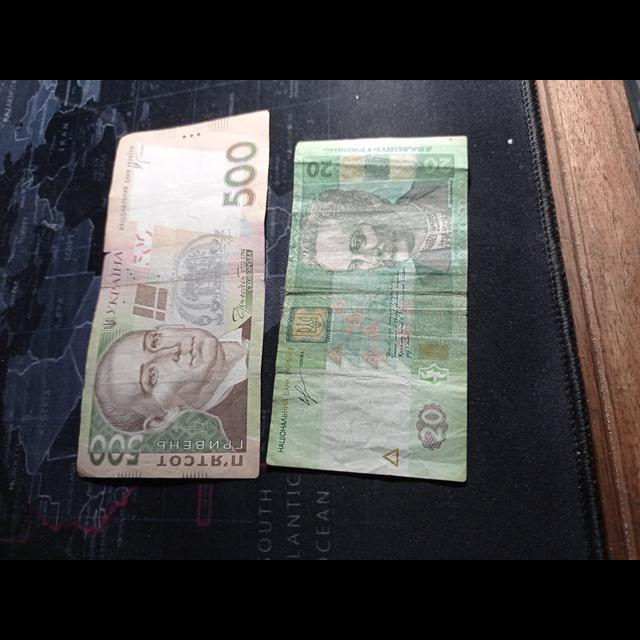20uah: (266, 136, 469, 483)
500uah: (77, 108, 269, 479)
